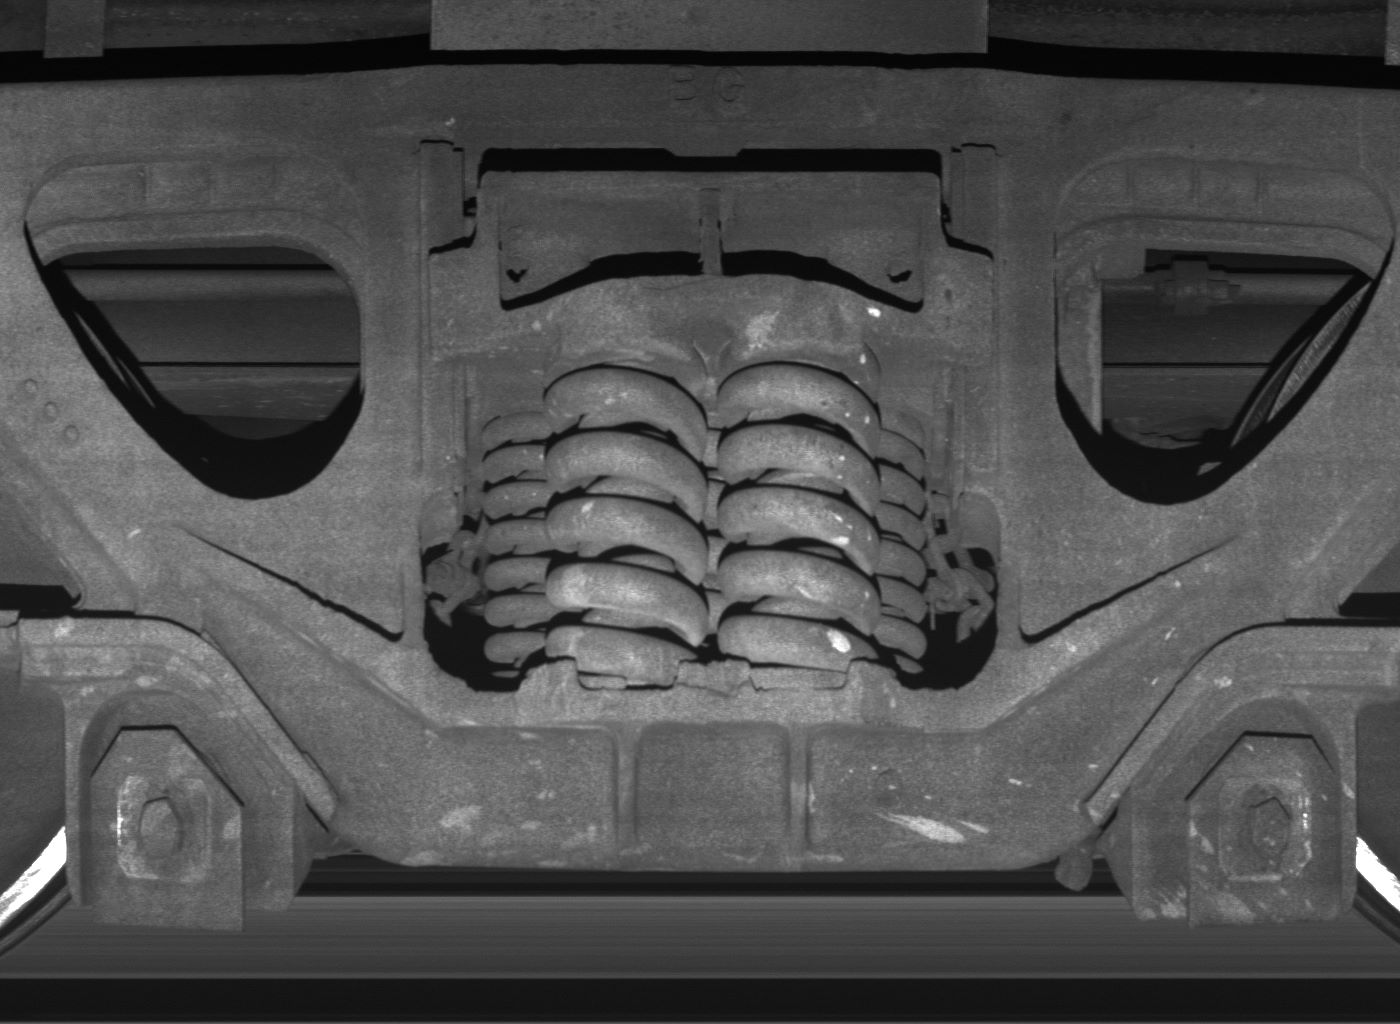normal: (66, 689, 290, 935), (1132, 697, 1359, 928)
